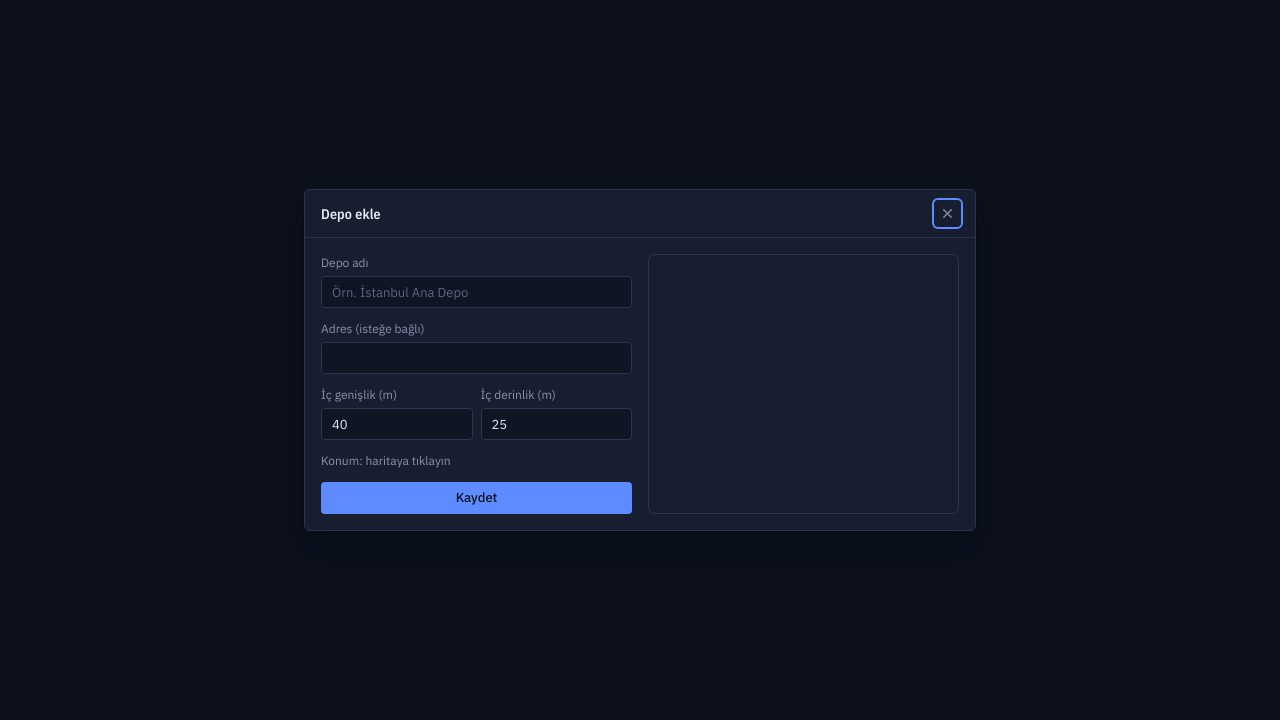
Test case: WarehouseFormDialog › refuses to submit without a map location
Step 1. Type "Konumsuz Depo" into the field labelled "Depo adı" → (476, 292), box [321,276,632,308]
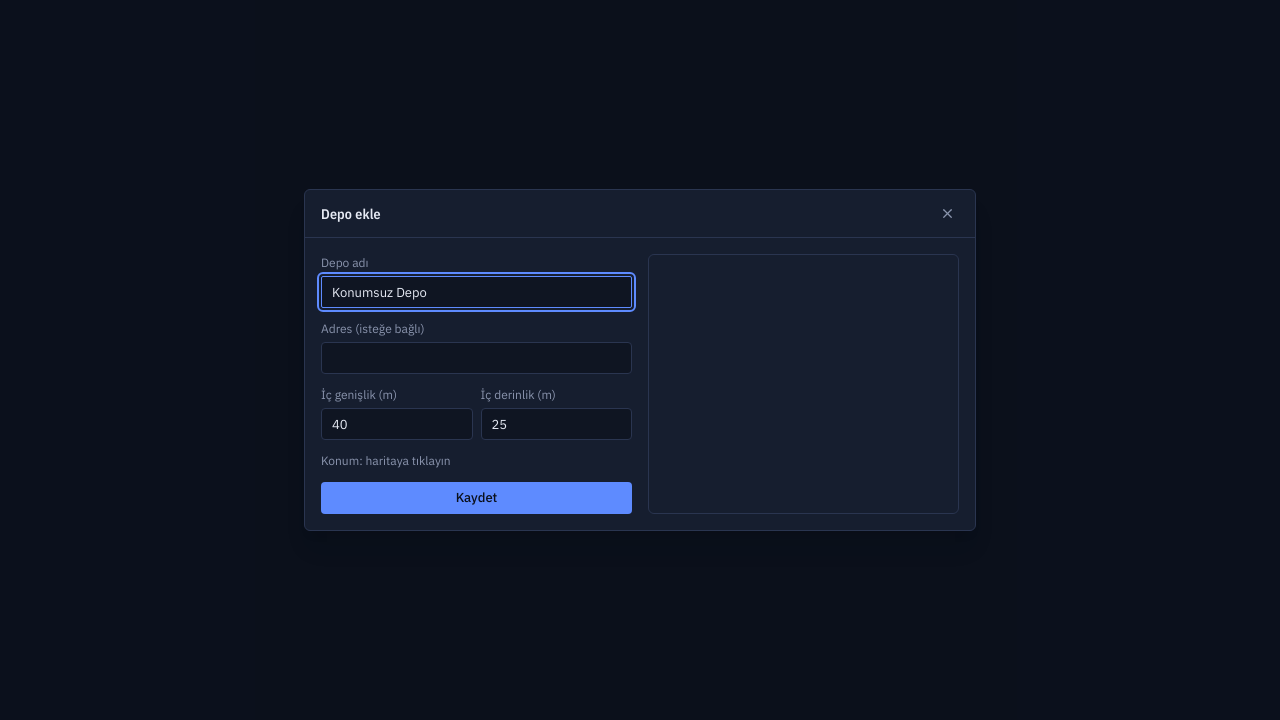
Step 2. Click the button "Kaydet" → (476, 498), box [321,482,632,514]
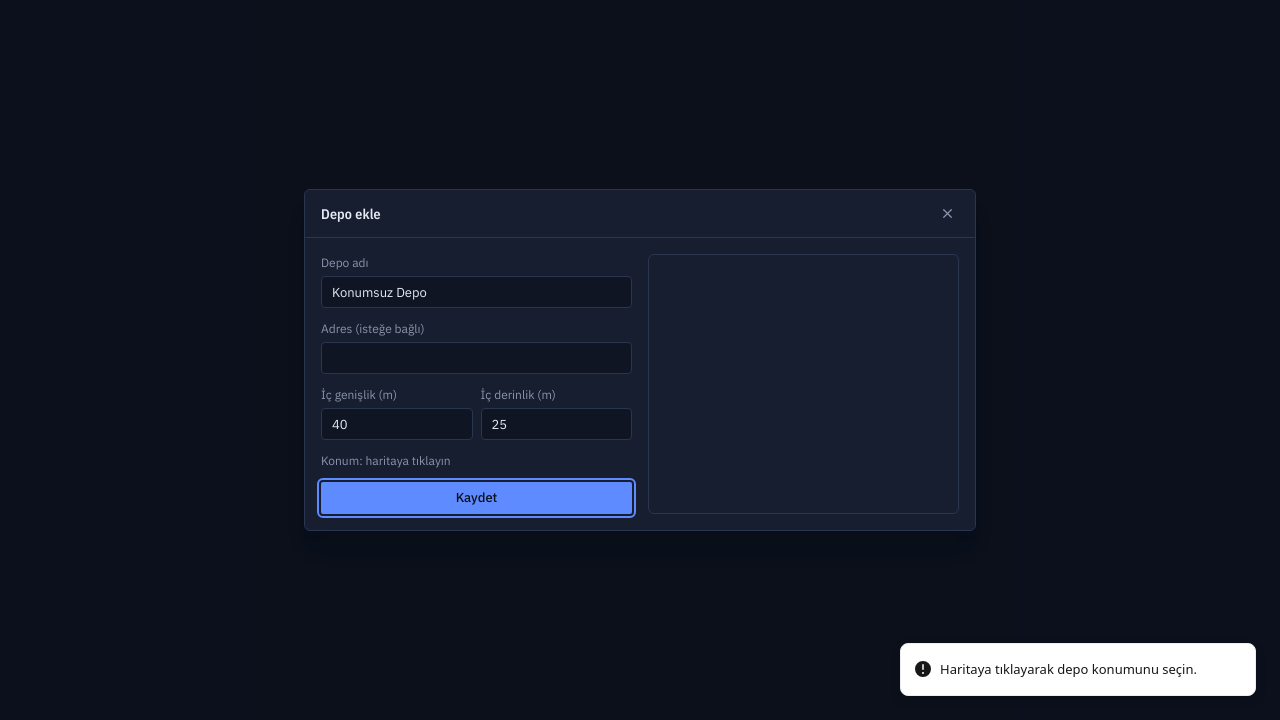
Now the text "Haritaya tıklayarak depo konumunu seçin." is shown, box [940,660,1197,679]
